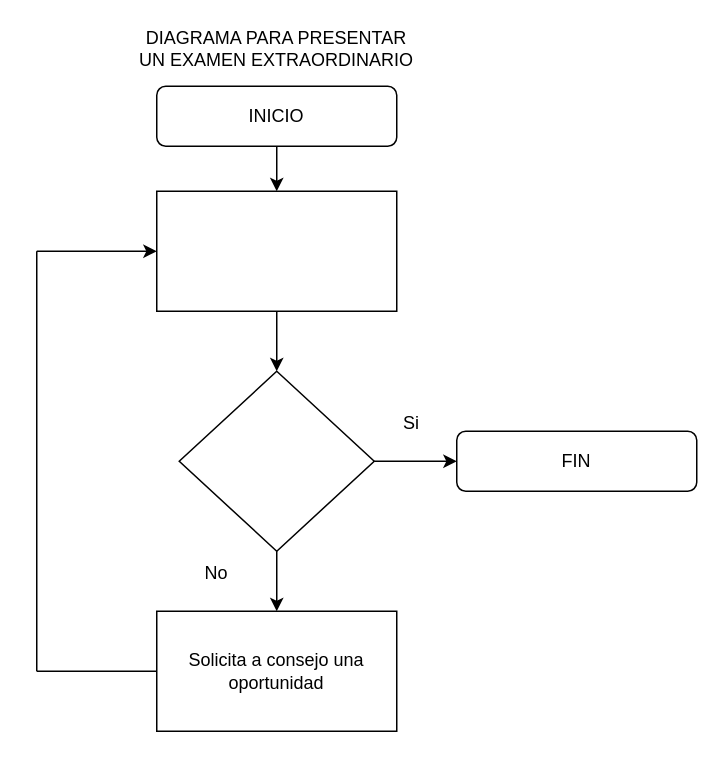
The diagram is 723 pixels wide and 758 high, and some of its shapes have lost their labels. Here are the shapes that lost their labels. From the top down, the box of each, then its label:
(155, 190, 397, 311): Un alumno presenta un examen extraordinario
(178, 370, 374, 551): Calificación mayor a 70
